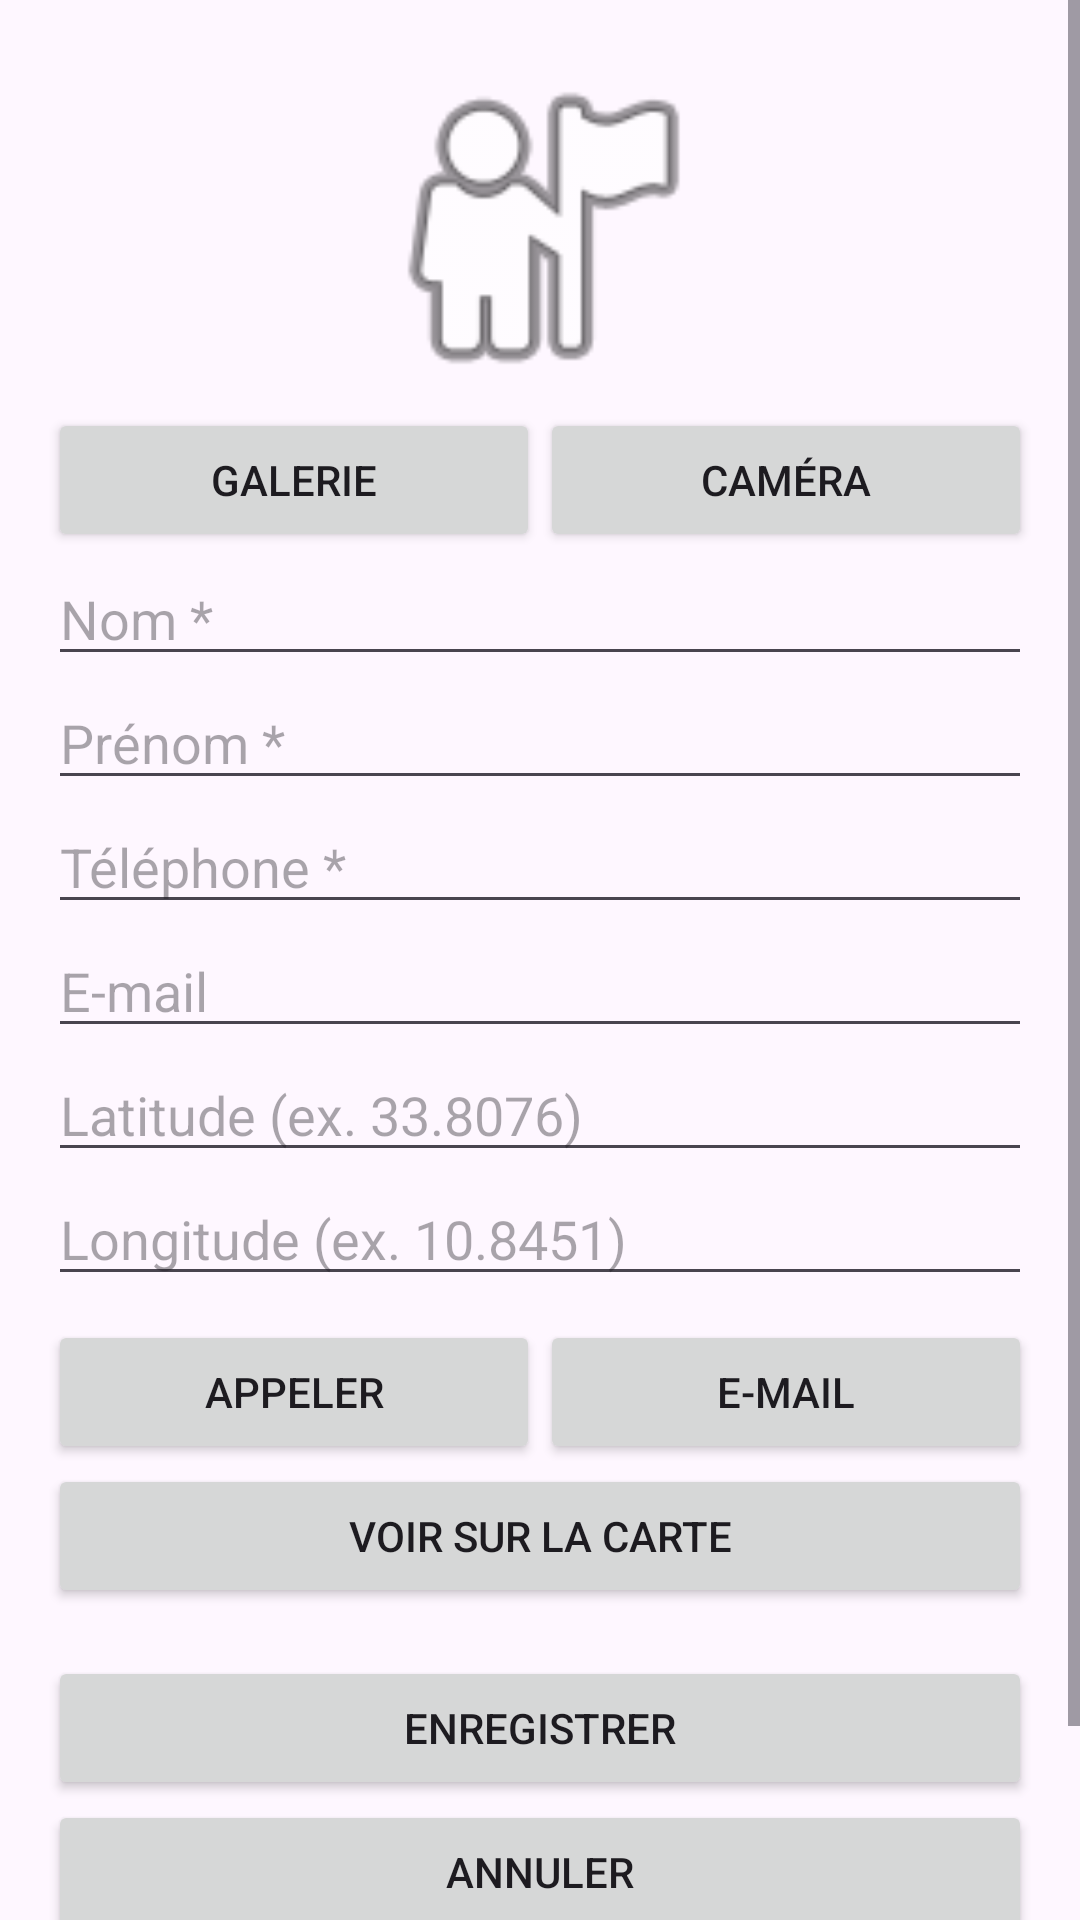

Named icons in this screenshot (1080w x 1920h) and their bounding boxes, (left=x1, top=y1, right=x2, bottom=y2):
myplaces: (left=408, top=93, right=679, bottom=363)
